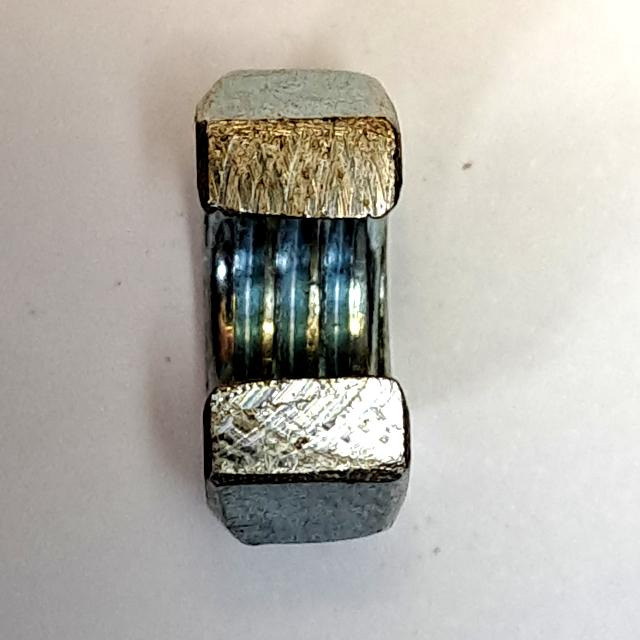Side-Fracture: (166, 55, 432, 565)
